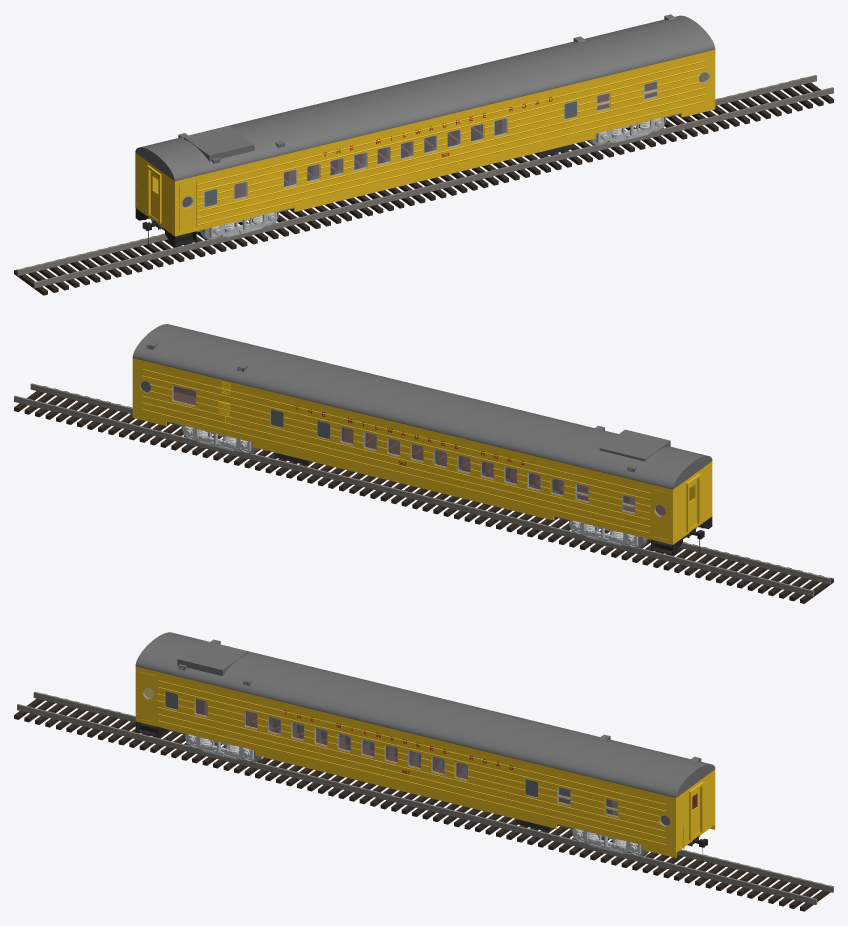
Rendered from MRCE_CoachAutomat563_G.glb.
3 renders of one model, top to bottom at view 1: azimuth 30°, elevation 25°; view 2: azimuth 150°, elevation 25°; view 3: azimuth 330°, elevation 25°, orthographic.
Visible parts, largest first — view 1: orange, roof, ties, rails, glass, interior, trucks, rims; view 2: orange, roof, ties, rails, glass, interior, trucks, rims; view 3: orange, roof, ties, rails, glass, interior, trucks, rims.
Boxes of the visible parts, bbox=[...] form: orange: bbox=[135, 49, 715, 236]; roof: bbox=[135, 14, 715, 181]; ties: bbox=[14, 77, 833, 295]; rails: bbox=[16, 75, 833, 288]; glass: bbox=[153, 72, 708, 207]; interior: bbox=[182, 75, 701, 207]; trucks: bbox=[209, 117, 663, 237]; rims: bbox=[181, 71, 709, 208]; orange: bbox=[132, 358, 712, 544]; roof: bbox=[132, 324, 712, 489]; ties: bbox=[14, 386, 833, 603]; rails: bbox=[14, 383, 830, 596]; glass: bbox=[173, 386, 693, 516]; interior: bbox=[173, 386, 665, 515]; trucks: bbox=[183, 425, 638, 546]; rims: bbox=[140, 380, 665, 516]; orange: bbox=[135, 666, 715, 857]; roof: bbox=[135, 632, 715, 797]; ties: bbox=[14, 693, 832, 911]; rails: bbox=[17, 691, 833, 904]; glass: bbox=[143, 687, 669, 825]; interior: bbox=[196, 699, 696, 825]; trucks: bbox=[186, 734, 641, 854]; rims: bbox=[142, 687, 670, 826].
Size of the model in its own units: 1.24 by 0.1488 by 0.1069.
